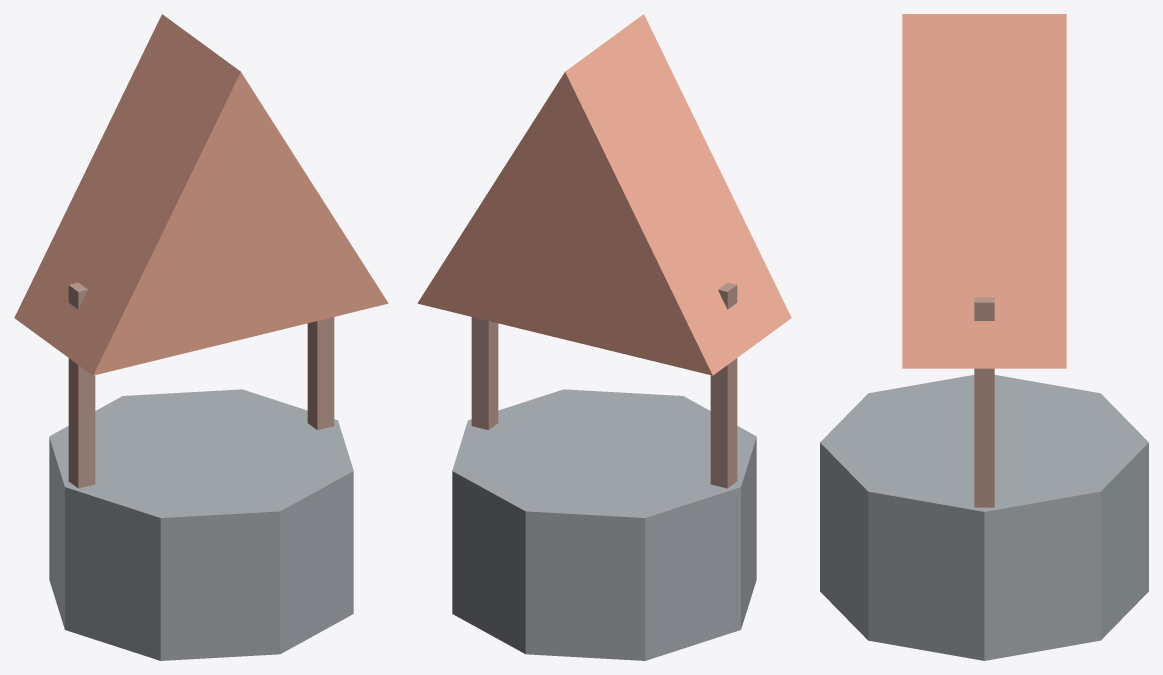
File: low_poly_well.glb
The picture shows the model from 3 angles, left to right: view 1: azimuth 30°, elevation 25°; view 2: azimuth 150°, elevation 25°; view 3: azimuth 270°, elevation 25°; orthographic projection. The views are drawn at different scales.
Visible parts, largest first — view 1: Well; view 2: Well; view 3: Well.
Part boxes in pixels (x1,y1,x2,y2): Well: (14, 14, 388, 660); Well: (417, 14, 791, 660); Well: (820, 14, 1148, 660).
Size of the model in its own units: 1.73 by 3.1 by 1.6.
